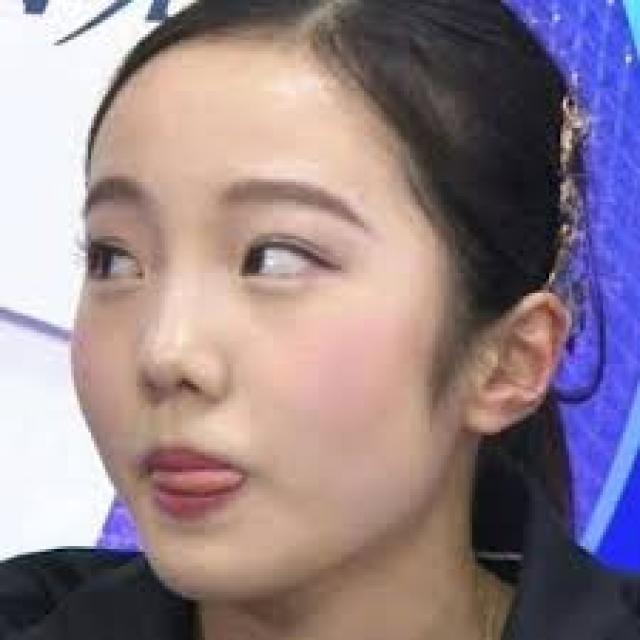tongue: (150, 467, 247, 495)
